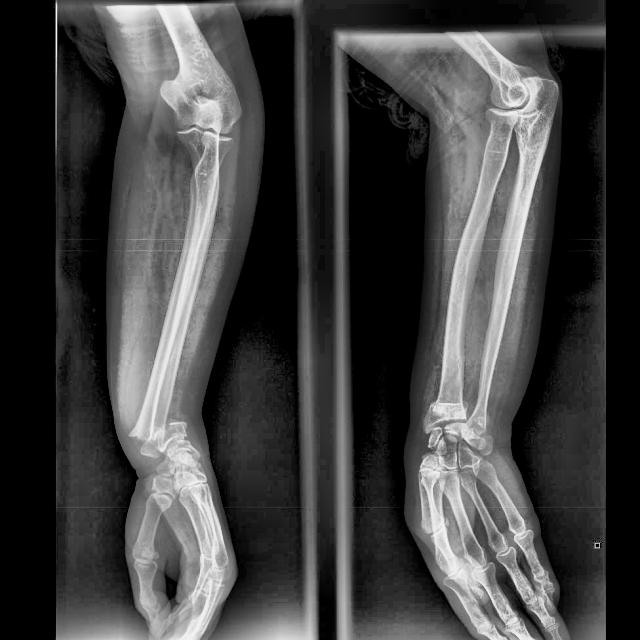line: (432, 400, 463, 406)
messed_up_angle: (127, 427, 187, 454)
